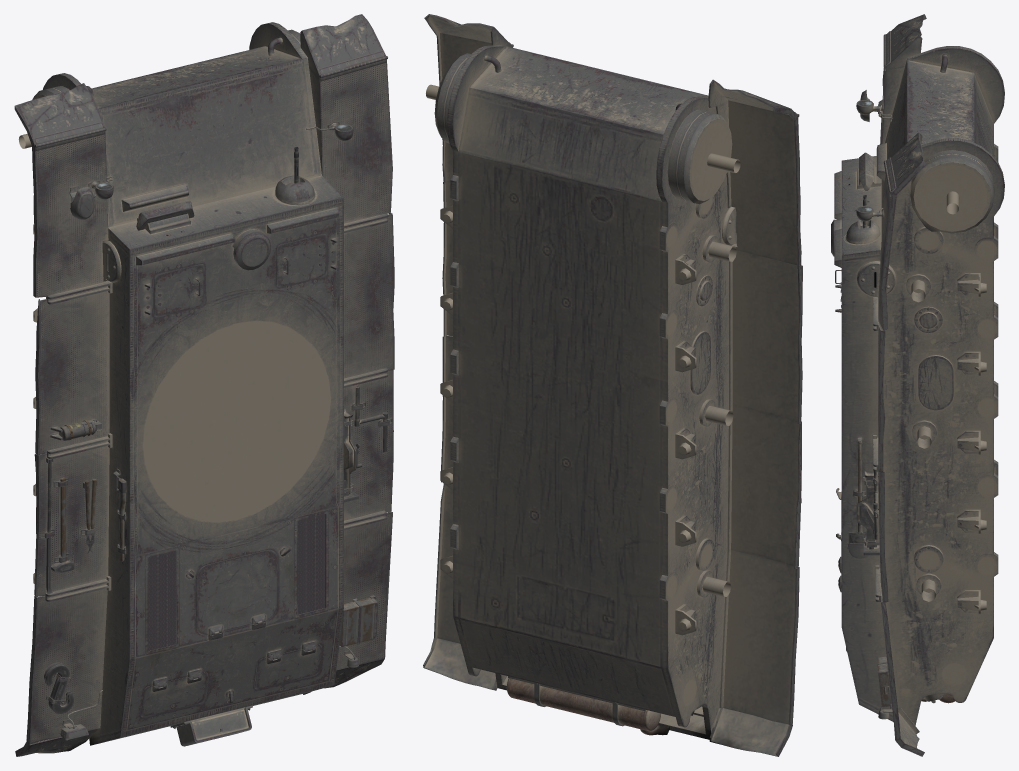
Rendered from Hull.glb.
3 renders of one model, left to right at view 1: azimuth 30°, elevation 25°; view 2: azimuth 150°, elevation 25°; view 3: azimuth 270°, elevation 25°, orthographic. The views are drawn at different scales.
Parts seen in each view (by area): view 1: set_0_group_0; view 2: set_0_group_0; view 3: set_0_group_0.
Boxes of the visible parts, x1=… form: set_0_group_0: x1=14, y1=14, x2=394, y2=756; set_0_group_0: x1=423, y1=14, x2=802, y2=756; set_0_group_0: x1=831, y1=14, x2=1004, y2=756.
Bounding box in the file's own units: 3.25 × 5.86 × 1.51.
1 material, 1 textured.
